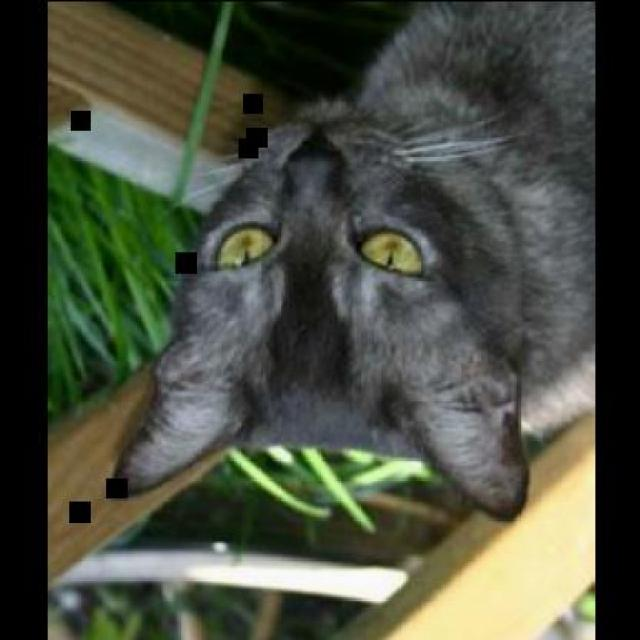unauthorized: (111, 0, 595, 522)
